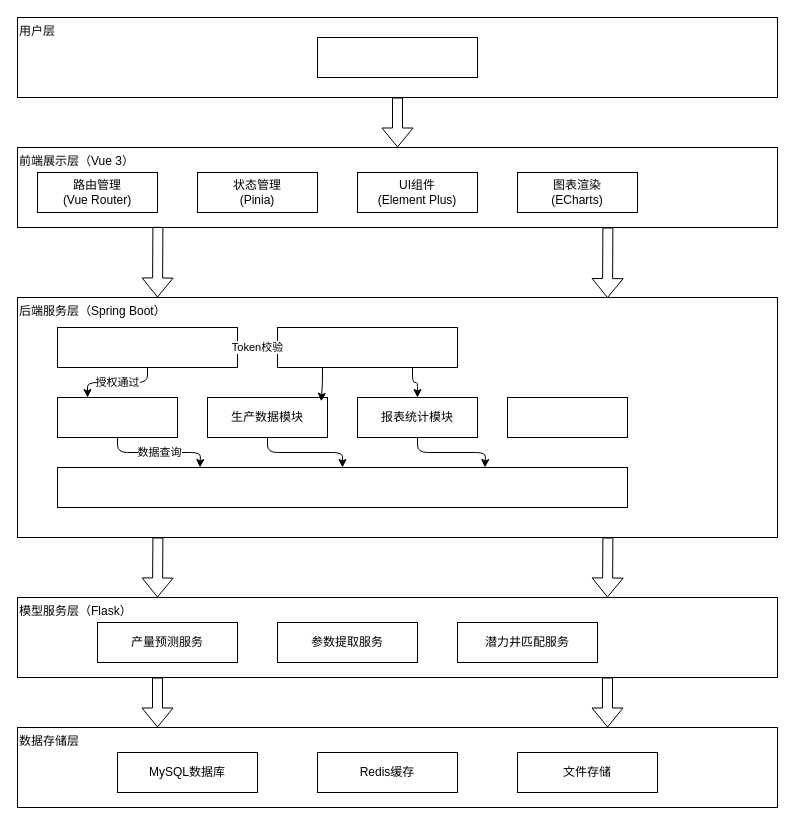
Some shapes in this 795 by 825 pixel diagram are drawn without their labels. Each missing label, with the centre of its shape:
"MyBatis持久层" goes at point 342,487.
"井位管理模块" goes at point 117,417.
"异步任务模块" goes at point 567,417.
"接口网关 (REST API)" goes at point 367,347.
"浏览器客户端" goes at point 397,57.
"认证鉴权 (Spring Security + JWT)" goes at point 147,347.
